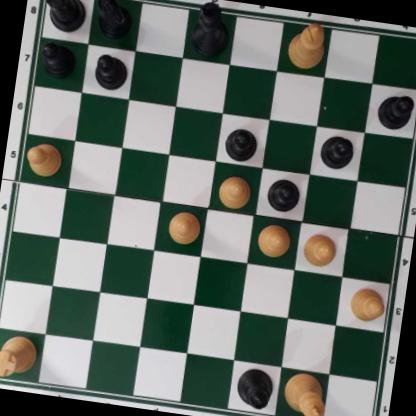black-bishop: (233, 363, 278, 413)
black-king: (188, 0, 234, 60)
black-knight: (88, 0, 136, 39)
black-pawn: (35, 37, 79, 80), (375, 90, 416, 133), (318, 131, 357, 171), (222, 123, 261, 162), (92, 50, 129, 91), (265, 174, 302, 214)
black-rook: (38, 0, 90, 34)
white-bishop: (287, 20, 329, 71)
white-king: (279, 369, 330, 416)
white-pawn: (346, 283, 387, 325), (214, 172, 255, 211), (23, 140, 64, 179), (300, 229, 339, 269), (255, 220, 292, 259), (165, 209, 202, 245)
white-rook: (0, 331, 39, 382)
